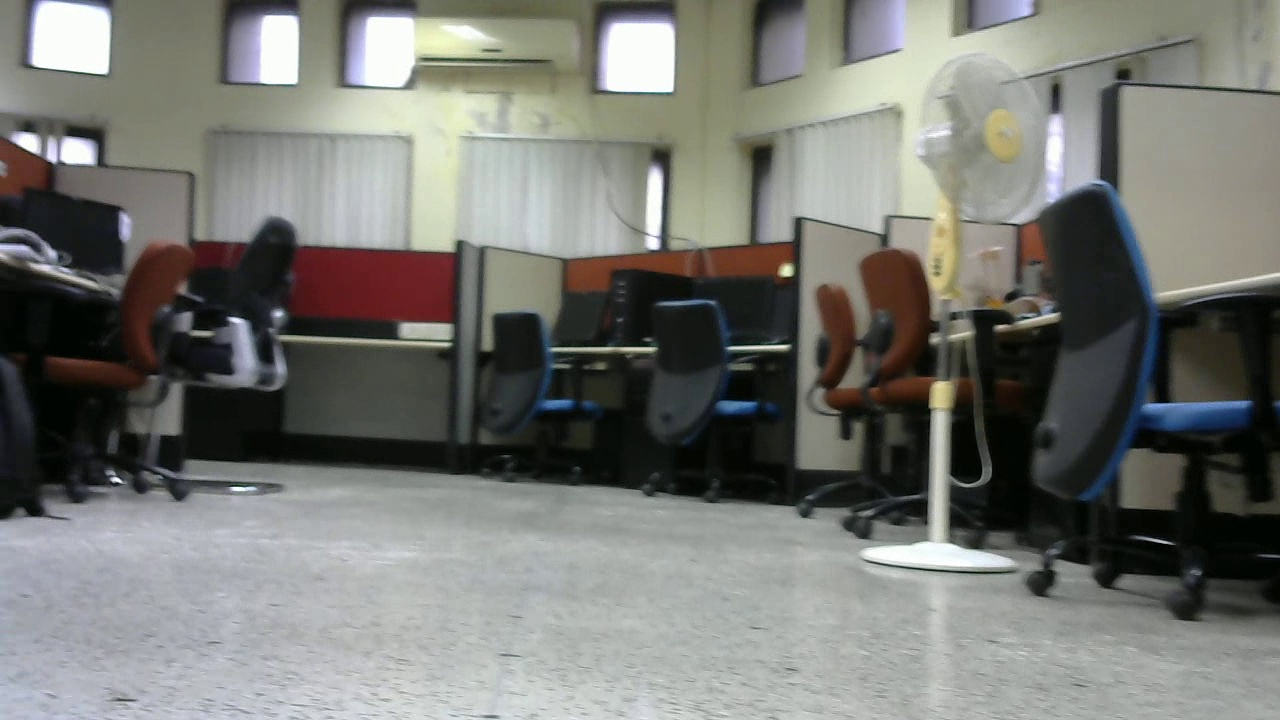chair: (1002, 181, 1280, 619), (852, 245, 1010, 544), (30, 240, 185, 492), (175, 212, 300, 497), (802, 278, 931, 530), (634, 300, 782, 500), (472, 309, 608, 491)
